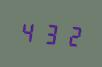four: (18, 17, 38, 45)
three: (40, 19, 60, 47)
two: (61, 20, 81, 49)
